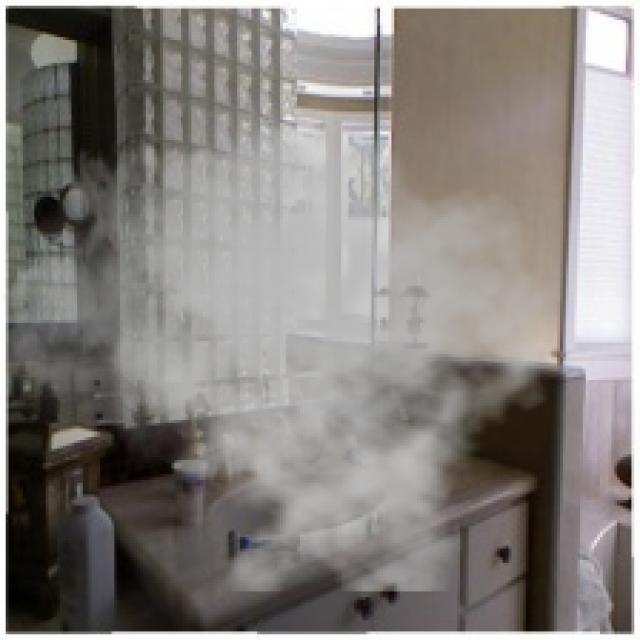Smoke: (2, 71, 568, 592)
